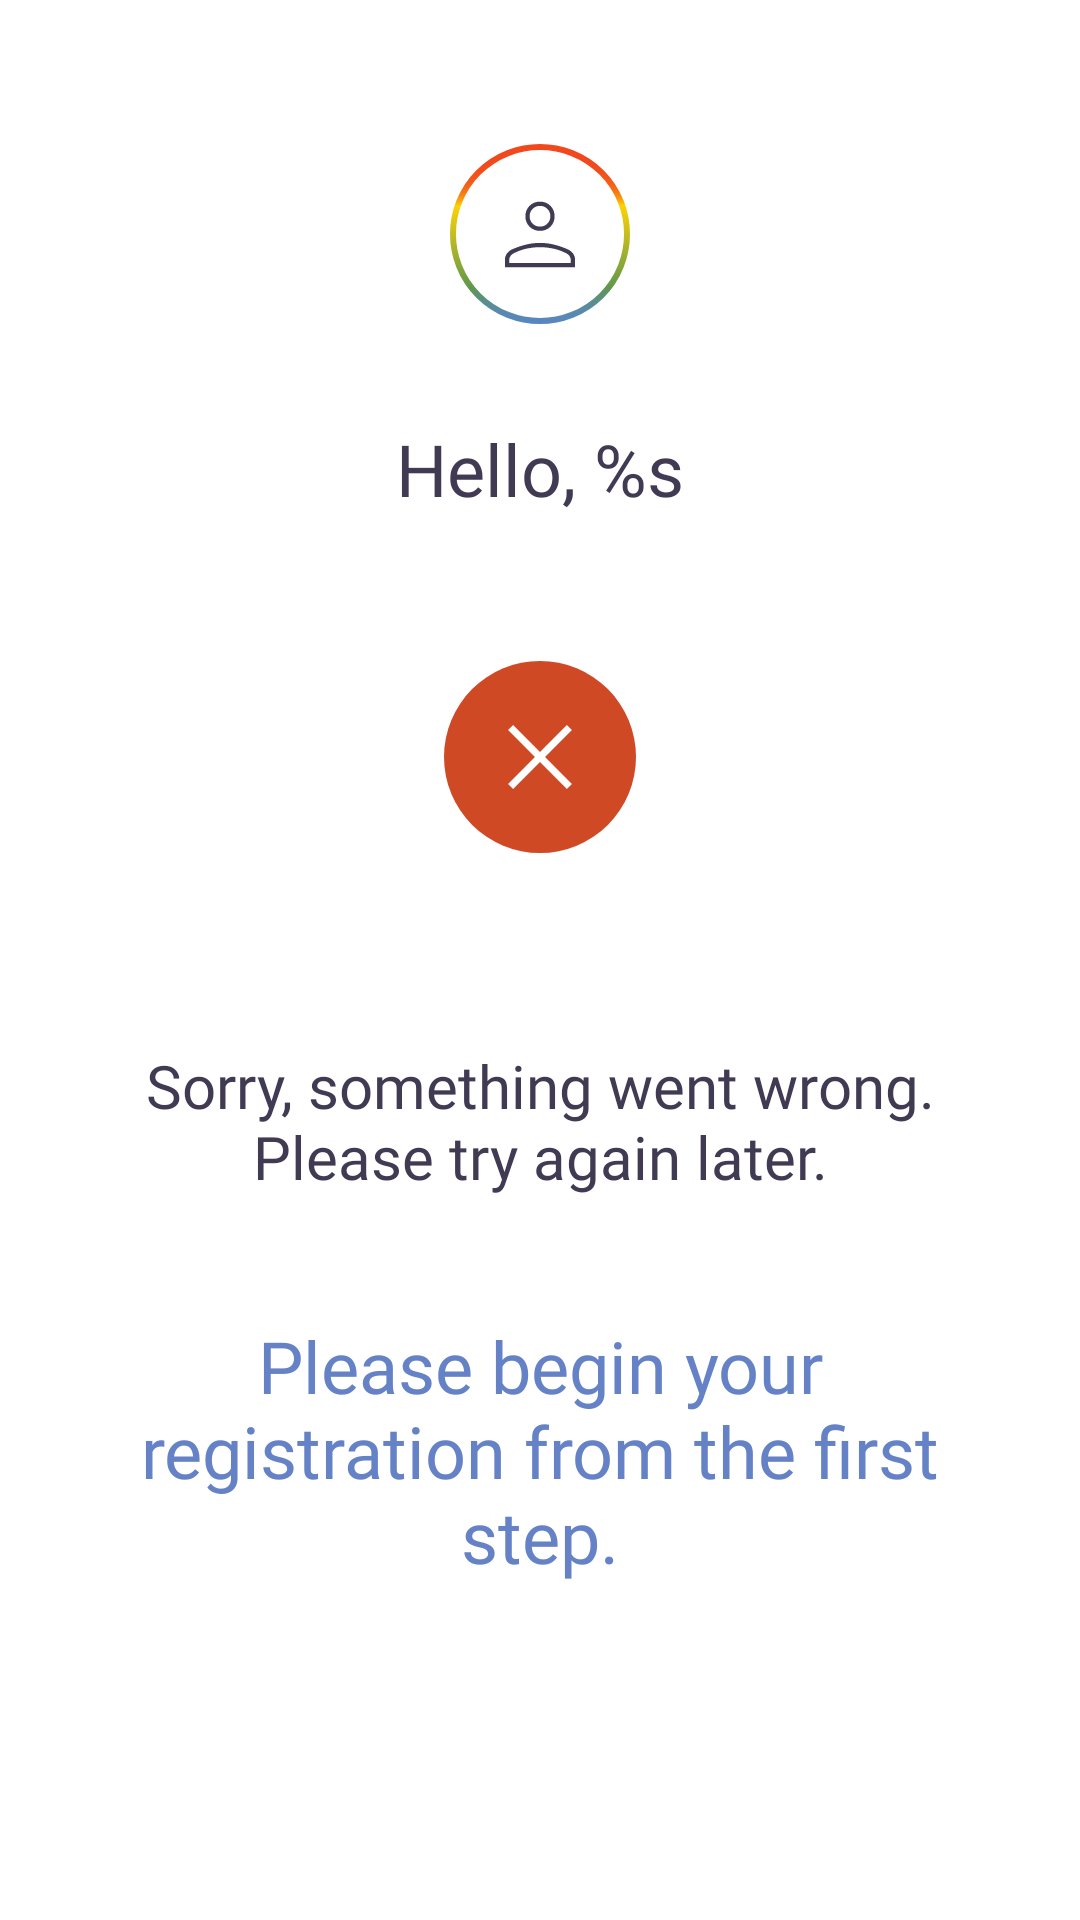

Where to tap for icons on this 1080px×1920px app screen, as point (x, y):
error: point (540, 757)
